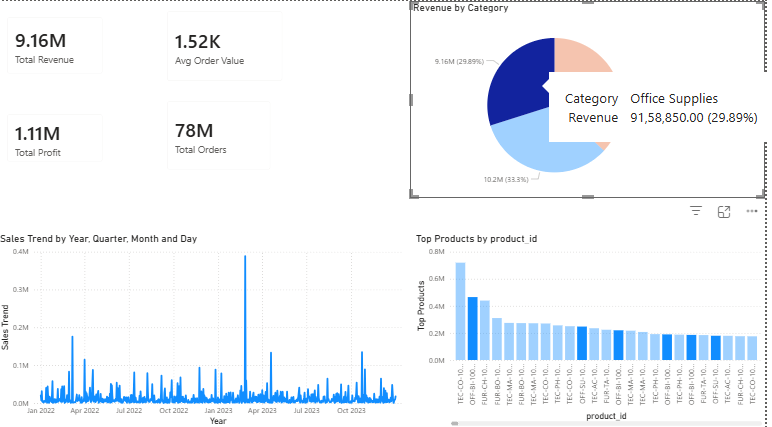

This screenshot's page, from the dashboard's own definition file:
{"tool":"powerbi","page":{"name":"Page 1","canvas":[1280,720],"ordinal":0},"visuals":[{"type":"cardVisual","fields":{"Data":["Sum(fact_sales.revenue)"]},"box":[0,10,193.3,128.3],"z":0},{"type":"cardVisual","fields":{"Data":["Sum(fact_sales.profit)"]},"box":[0,171.7,193.3,113.3],"z":1000},{"type":"lineChart","fields":{"Y":["Sum(fact_sales.revenue)"],"Category":["dim_date.order_date.Variation.Date Hierarchy.Year","dim_date.order_date.Variation.Date Hierarchy.Quarter","dim_date.order_date.Variation.Date Hierarchy.Month","dim_date.order_date.Variation.Date Hierarchy.Day"]},"box":[0,385,693.3,328.3],"z":2000},{"type":"clusteredColumnChart","fields":{"Category":["dim_product.product_id"],"Y":["Sum(fact_sales.revenue)"]},"box":[693.3,385,586.7,328.3],"z":3000},{"type":"pieChart","fields":{"Category":["dim_product.category"],"Y":["Sum(fact_sales.revenue)"]},"box":[688.3,0,591.7,328.3],"z":4000},{"type":"cardVisual","fields":{"Data":["Sum(fact_sales.order_id)"]},"box":[266.7,150,206.7,148.3],"z":5000},{"type":"cardVisual","fields":{"Data":["dim_date.Average Order Value"]},"box":[266.7,0,226.7,150],"z":6000}]}

Visuals, with their boxes in screenshot pixels (x1, y1, x2, y2), scaled from the page's 1280x720 canvas onto the 772x427 screenshot:
cardVisual - Sum(fact_sales.revenue): Rect(0, 6, 117, 82)
cardVisual - Sum(fact_sales.profit): Rect(0, 102, 117, 169)
lineChart - Sum(fact_sales.revenue) x dim_date.order_date.Variation.Date Hierarchy.Year: Rect(0, 228, 418, 423)
clusteredColumnChart - dim_product.product_id x Sum(fact_sales.revenue): Rect(418, 228, 771, 423)
pieChart - dim_product.category x Sum(fact_sales.revenue): Rect(415, 0, 771, 195)
cardVisual - Sum(fact_sales.order_id): Rect(161, 89, 286, 177)
cardVisual - dim_date.Average Order Value: Rect(161, 0, 298, 89)
